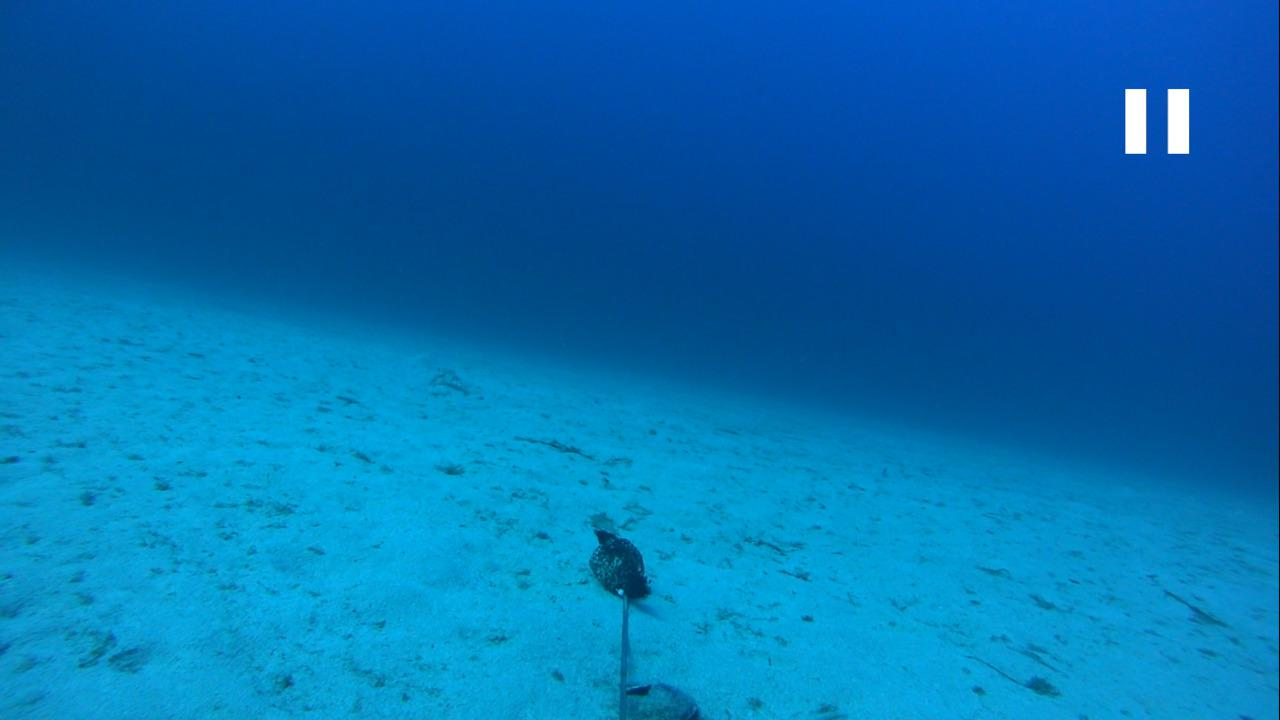dactylopterus: (420, 360, 470, 400)
